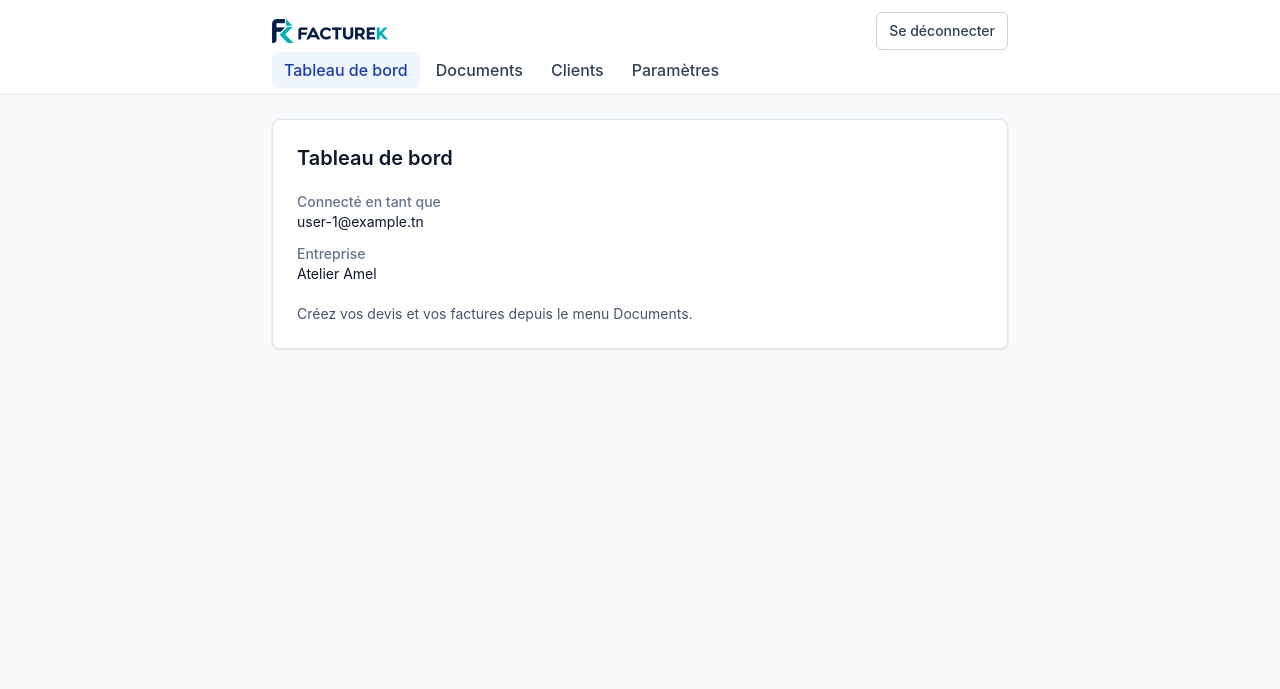
settings page › is reachable from the navigation and shows the two sections
This screenshot has width=1280, height=689.
Click the link "Paramètres": (675, 70) [632,60,719,80]
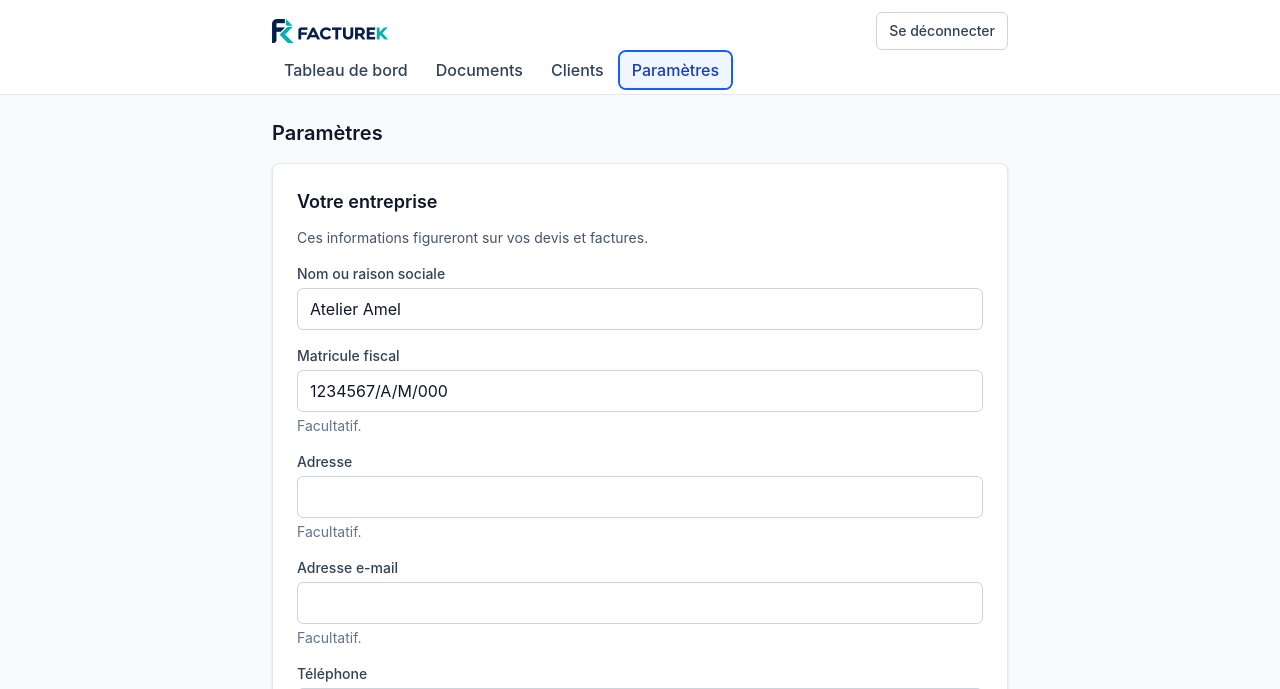
Now the heading "Paramètres" is shown, box [272,121,383,145]
Now the heading "Votre entreprise" is shown, box [297,191,438,212]
